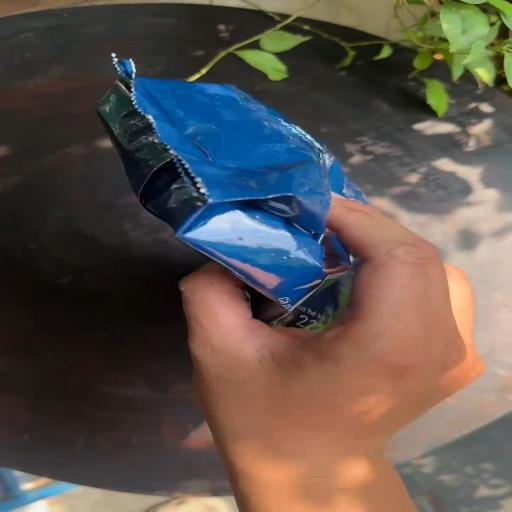cafe_hat: (283, 256, 288, 258)
